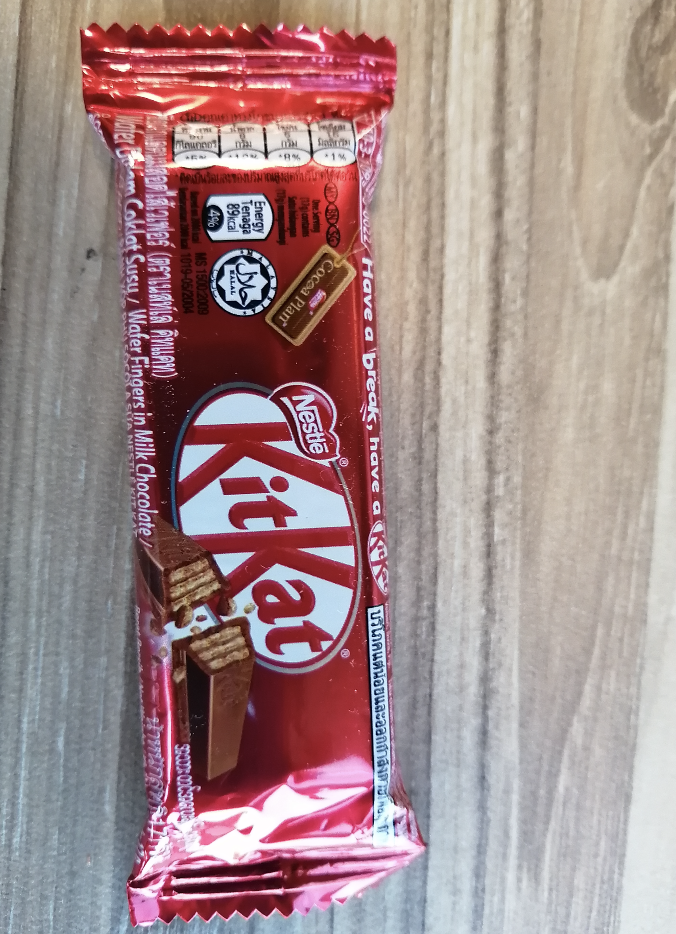Kitkat: (125, 39, 394, 881)
